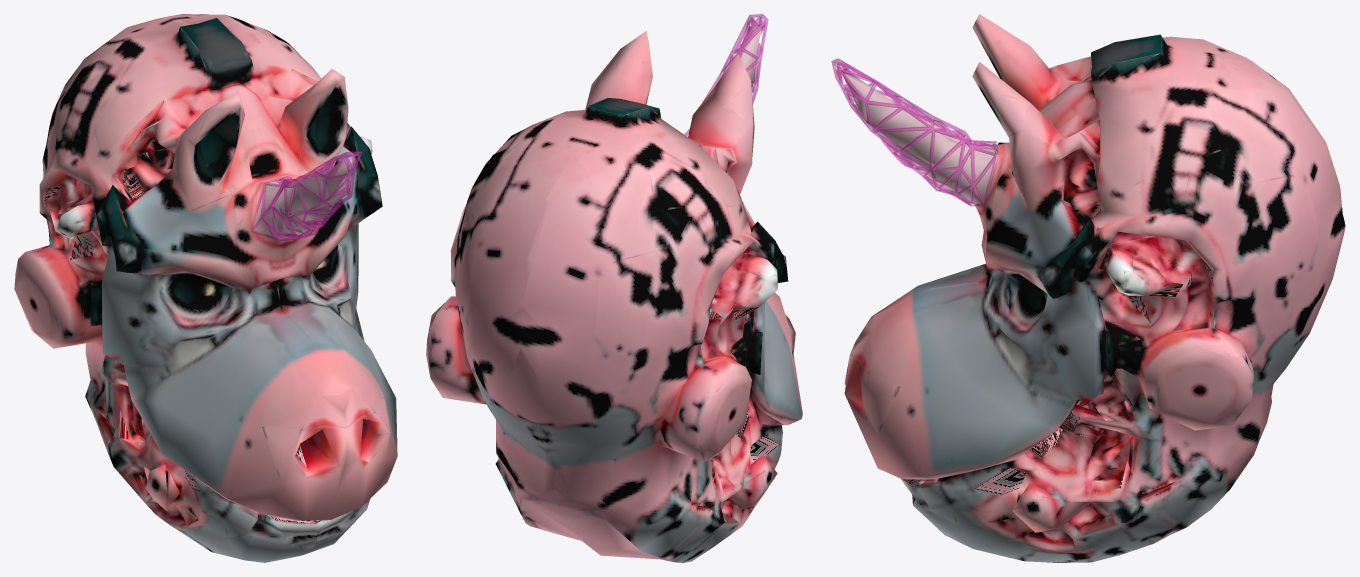
The model's file is unibrowserloadicorn.glb.
The picture shows the model from 3 angles, left to right: view 1: azimuth 30°, elevation 25°; view 2: azimuth 150°, elevation 25°; view 3: azimuth 270°, elevation 25°; orthographic projection. The views are drawn at different scales.
Parts seen in each view (by area): view 1: Mesh1.001, Mesh1.002; view 2: Mesh1.001, Mesh1.002; view 3: Mesh1.001, Mesh1.002.
Part boxes in pixels (x1,y1,x2,y2): Mesh1.001: [14, 14, 397, 562]; Mesh1.002: [251, 151, 362, 241]; Mesh1.001: [426, 25, 802, 562]; Mesh1.002: [684, 14, 768, 136]; Mesh1.001: [841, 14, 1345, 562]; Mesh1.002: [831, 58, 997, 206].
Size of the model in its own units: 1.28 by 1.89 by 1.73.
Materials: 4 (2 with a texture image).
